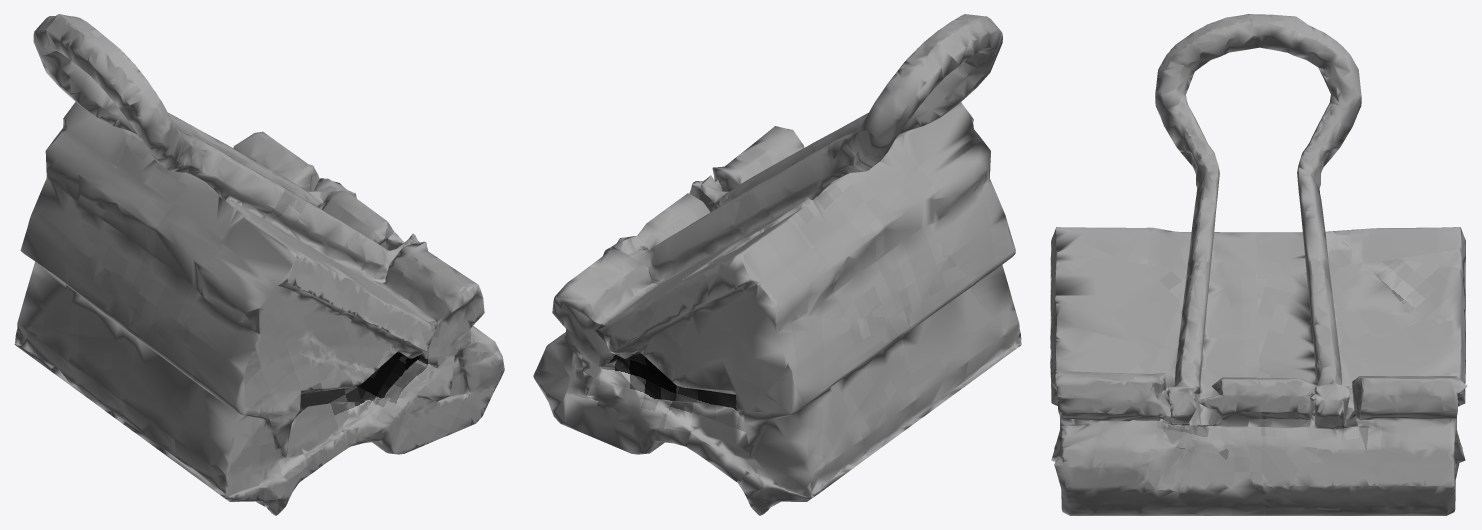
File: xs_paperclip_bent.glb
The picture shows the model from 3 angles, left to right: view 1: azimuth 30°, elevation 25°; view 2: azimuth 150°, elevation 25°; view 3: azimuth 270°, elevation 25°; orthographic projection. The views are drawn at different scales.
Parts seen in each view (by area): view 1: tripo_node_2b90a7a1-66b5-4f38-9144-433b9f945034; view 2: tripo_node_2b90a7a1-66b5-4f38-9144-433b9f945034; view 3: tripo_node_2b90a7a1-66b5-4f38-9144-433b9f945034.
Part boxes in pixels (x1,y1,x2,y2): tripo_node_2b90a7a1-66b5-4f38-9144-433b9f945034: (14,14,504,515); tripo_node_2b90a7a1-66b5-4f38-9144-433b9f945034: (533,14,1021,515); tripo_node_2b90a7a1-66b5-4f38-9144-433b9f945034: (1050,14,1467,515).
Size of the model in its own units: 0.7968 by 0.9975 by 0.9238.
1 material, 1 textured.
